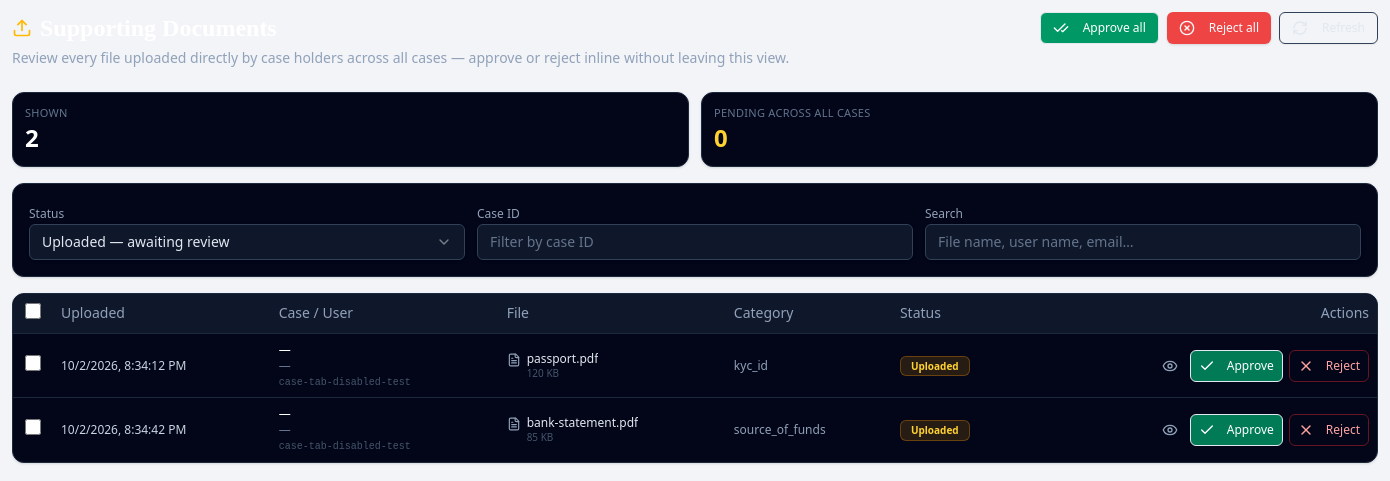
it: SupportingDocumentsTab — bulk buttons disabled while per-row action is in-flight › disables bulk-approve and bulk-reject while a per-row approve PATCH is in-flight
This screenshot has width=1390, height=481.
Expected: the button with test id "button-bulk-approve-supporting-docs" is enabled, [1040, 12, 1159, 44]
Expected: the button with test id "button-bulk-reject-supporting-docs" is enabled, [1167, 12, 1271, 44]
Click the button "Approve" in the row of "10/2/2026, 8:34:12 PM": (1236, 366) [1190, 350, 1283, 382]
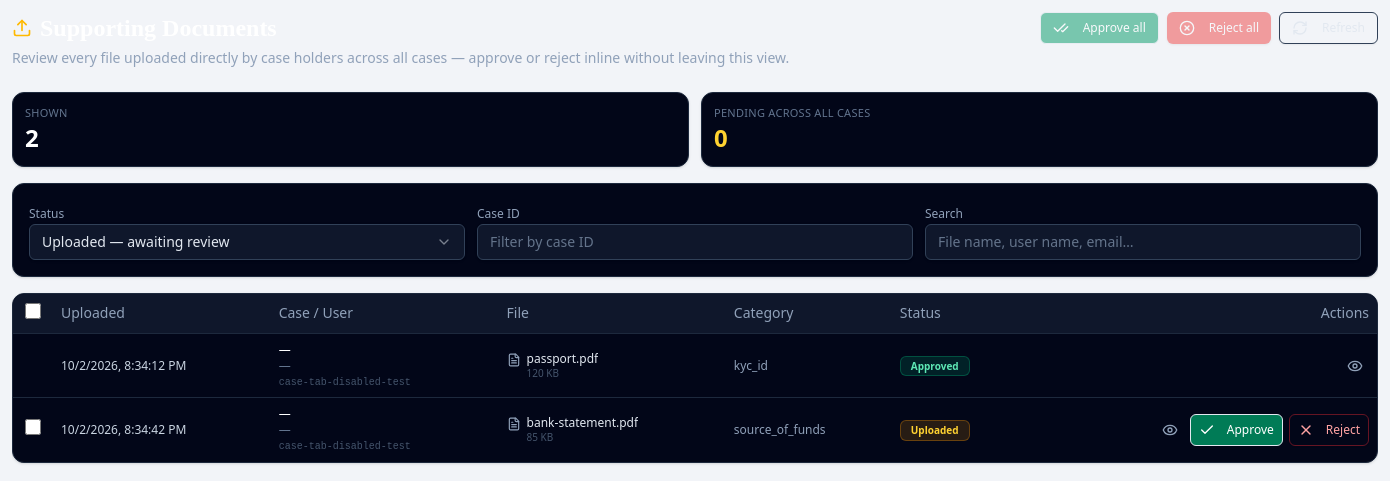
Now the button with test id "button-bulk-approve-supporting-docs" is disabled, box [1040, 12, 1159, 44]
Now the button with test id "button-bulk-reject-supporting-docs" is disabled, box [1167, 12, 1271, 44]
